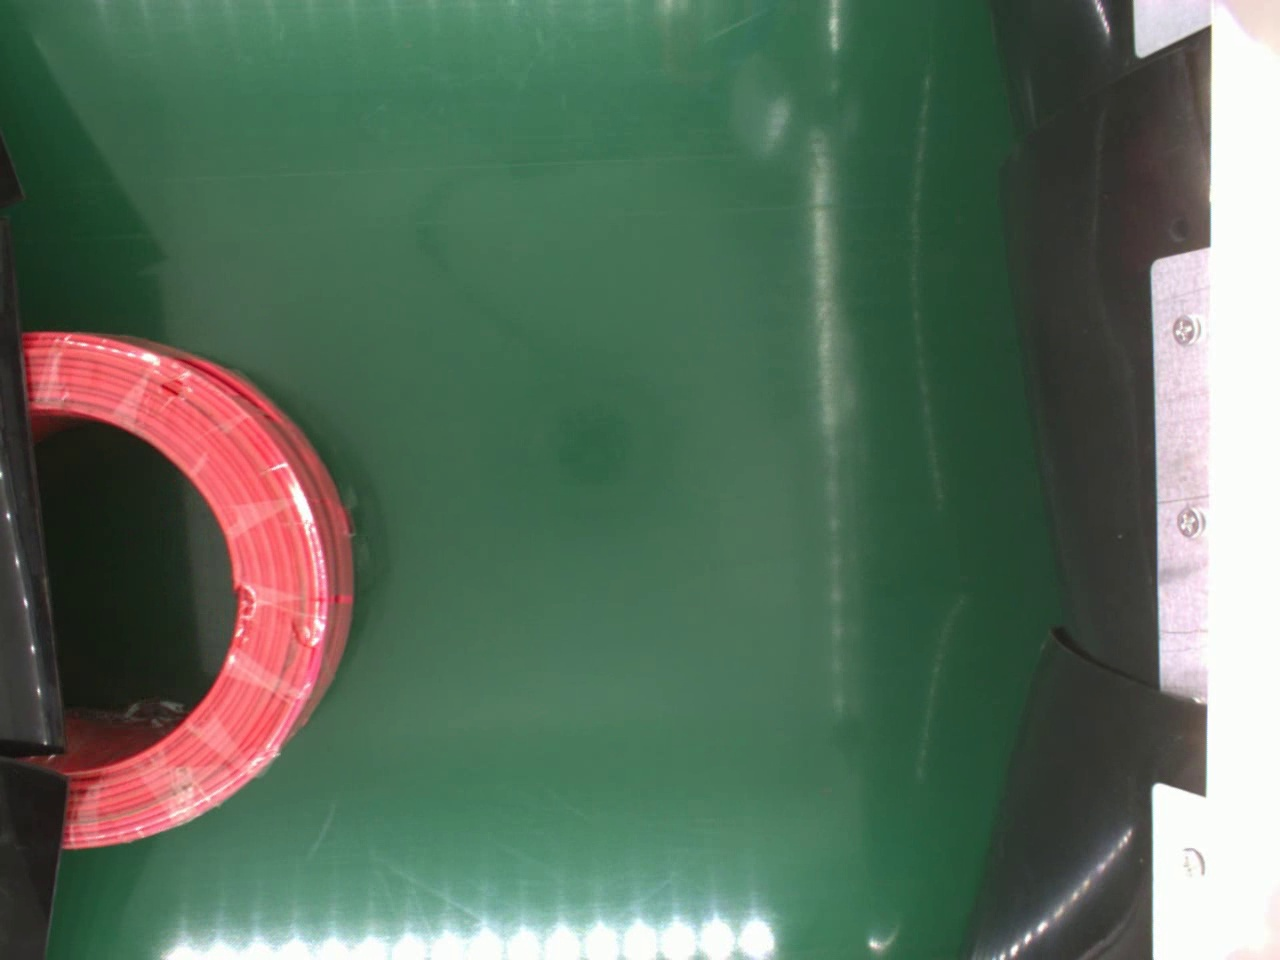red: (21, 331, 364, 850)
